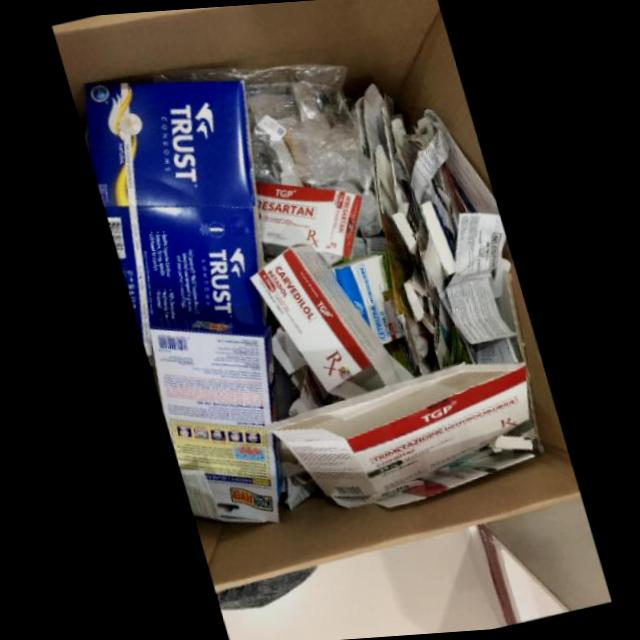carton: (82, 75, 259, 360), (352, 84, 518, 377), (257, 363, 523, 508), (244, 245, 406, 418), (144, 328, 275, 523), (325, 428, 531, 508), (248, 181, 357, 270), (323, 253, 397, 345)
giay: (440, 213, 510, 344)
